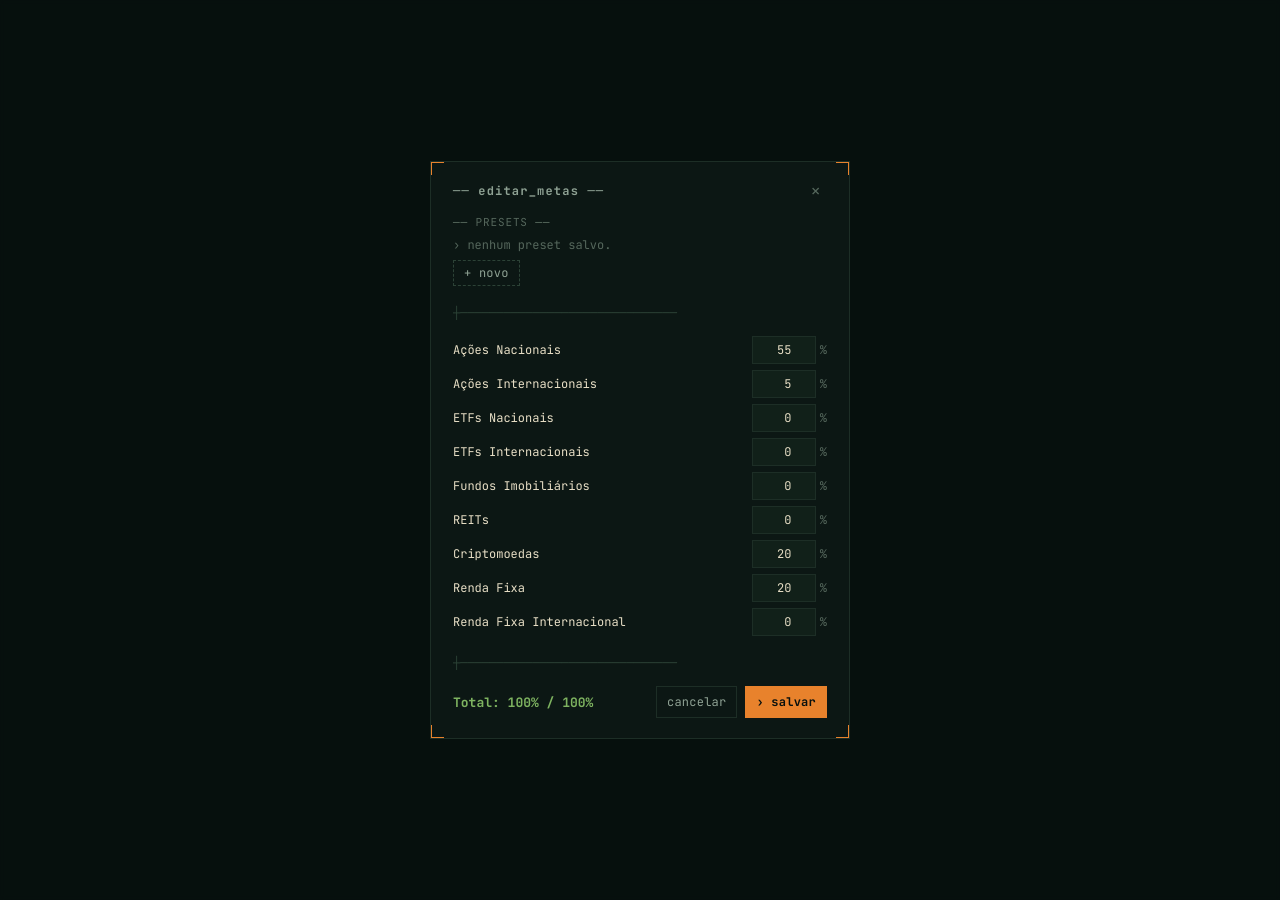
Test: EditTargetsModal › disables Save when sum differs from 100
Replace the text in the number field with test id "target-input-fundos_imobiliarios" with "15". click: (784, 486)
box: [752,472,816,500]
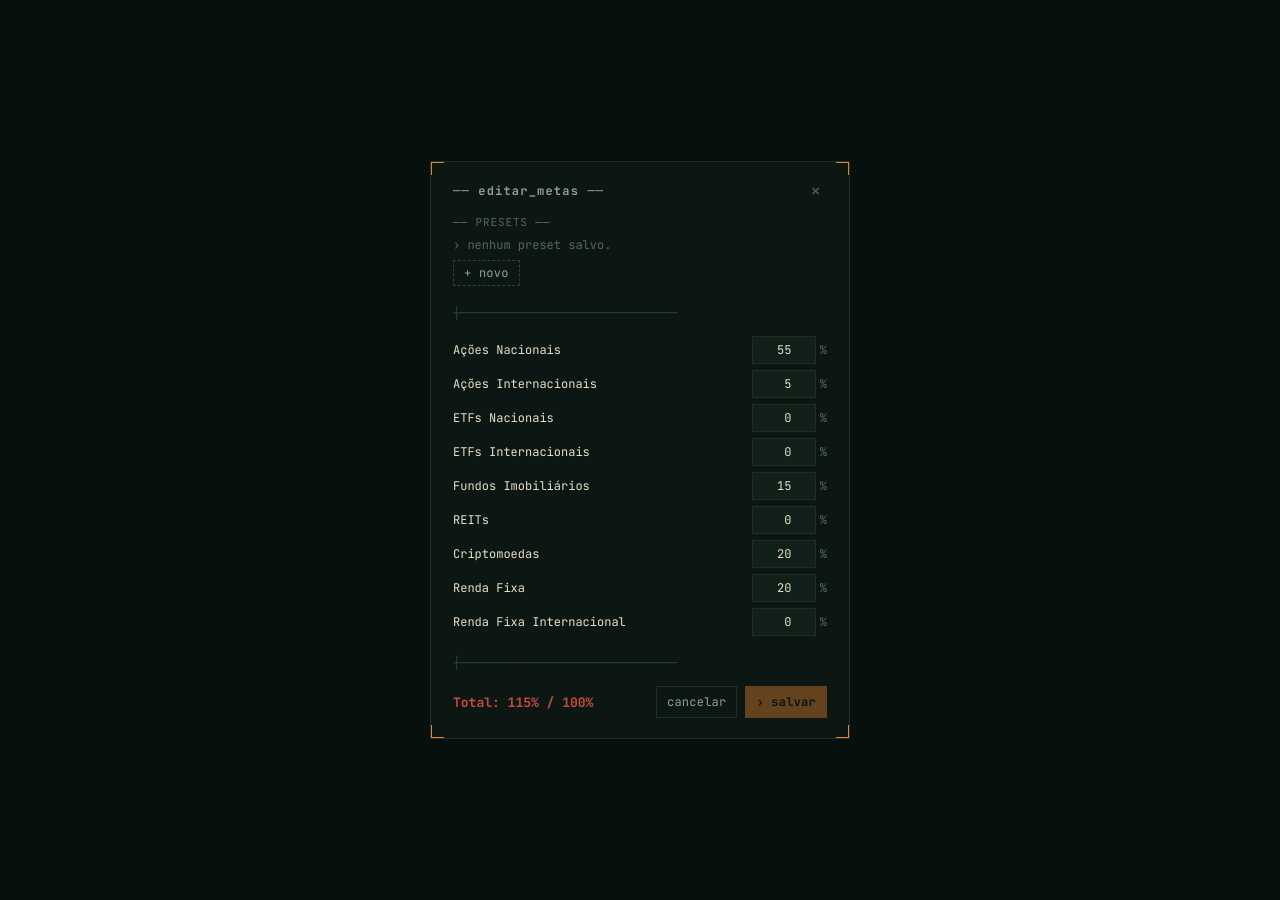
Expected: the button with test id "save-button" is disabled, [746,686,827,718]
Expected: the text with test id "total-indicator" reads "Total: 115% / 100%", [453,694,593,710]
